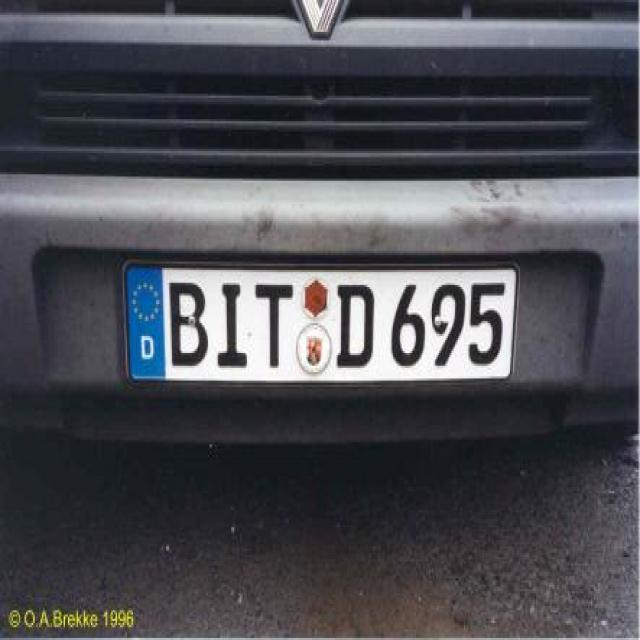license-plates: (125, 264, 516, 382)
